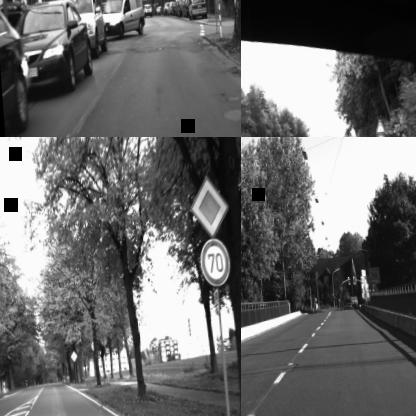priority road: (188, 174, 231, 240), (70, 350, 78, 362)
speed limit 50: (376, 134, 386, 137)
speed limit 70: (199, 238, 231, 287)
traffic signal: (374, 118, 386, 134)
